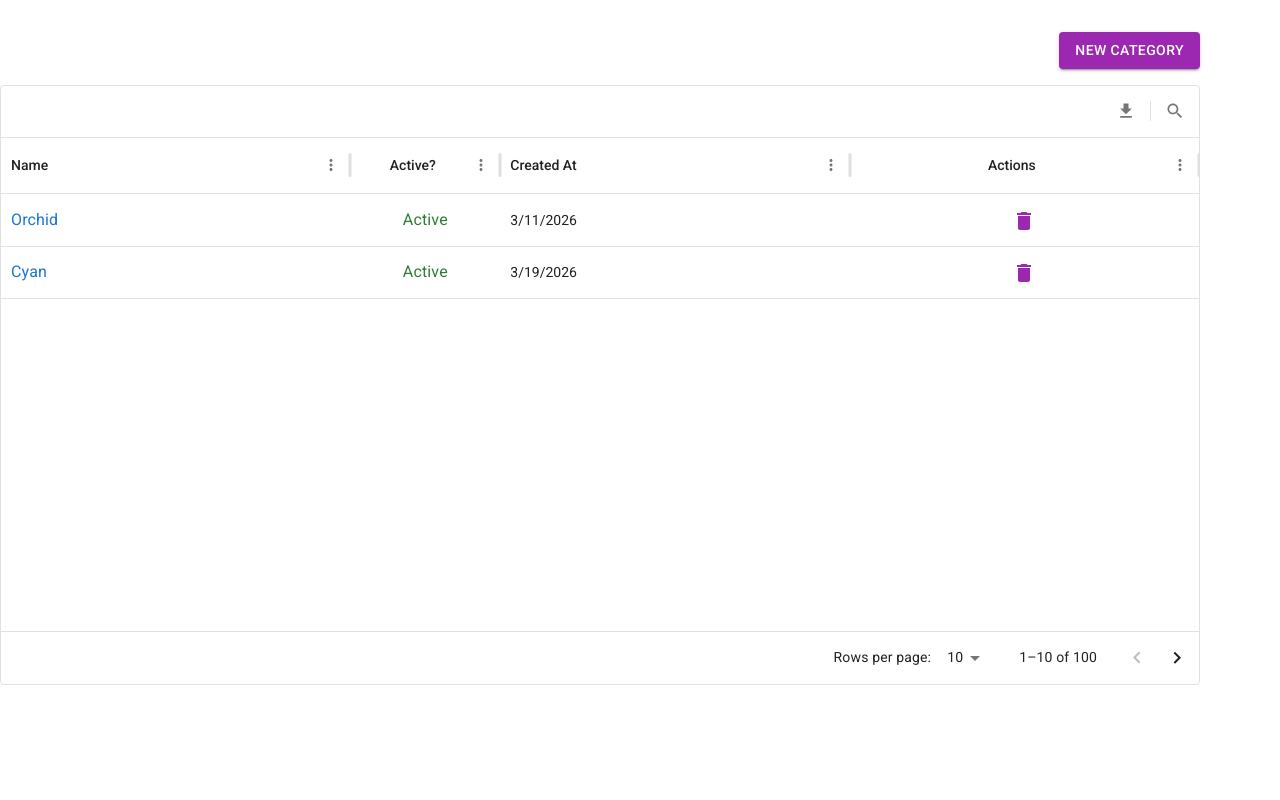
CategoryList › should handle Delete Category success
Check: the text "Orchid" is shown, box [11, 208, 58, 232]
Como não temos algo que identifica nosso botão de delete, vamos atribuir a ele, um data-testId.
Click the button with test id "delete-button" in the row of "Orchid" at (1024, 221), box [1004, 201, 1044, 241]
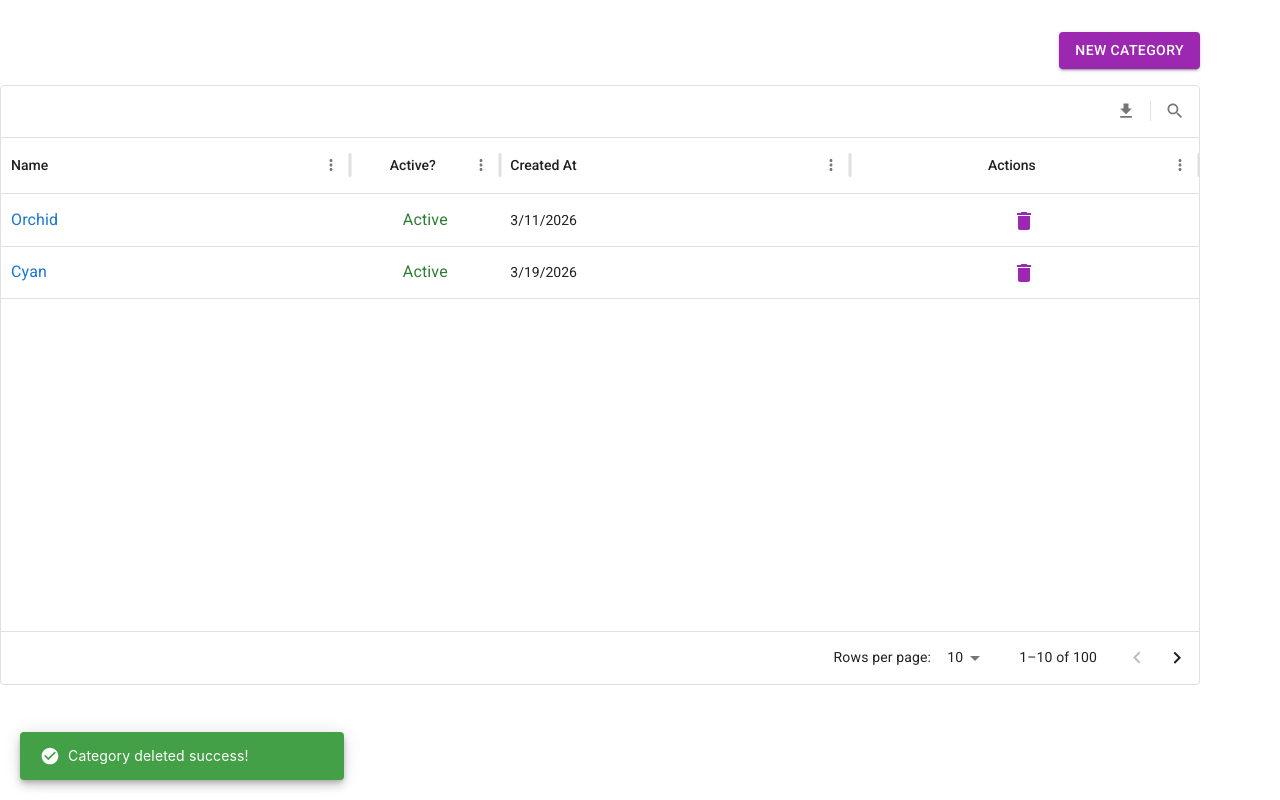
Check: the text "Category deleted success!" is shown, box [40, 746, 249, 766]
